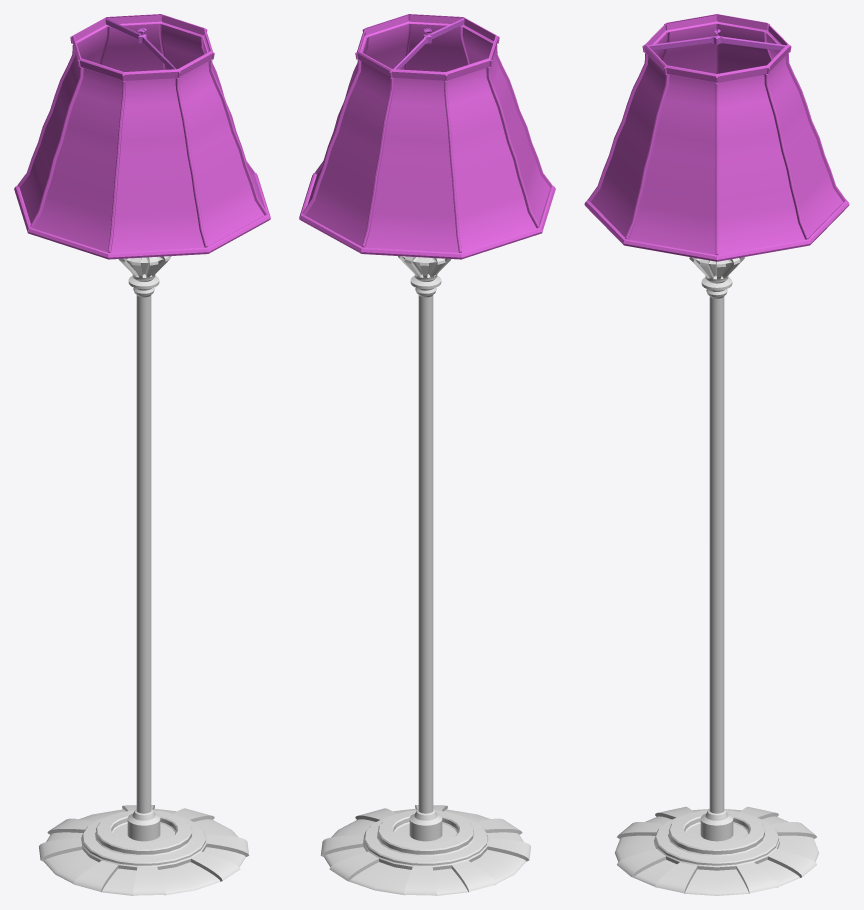
The model's file is lampara grande barbie.fbx.
3 views of the same model, side by side, from view 1: azimuth 30°, elevation 25°; view 2: azimuth 150°, elevation 25°; view 3: azimuth 270°, elevation 25° (orthographic).
Parts seen in each view (by area): view 1: polySurface1, polySurface2, polySurface3; view 2: polySurface1, polySurface2, polySurface3; view 3: polySurface1, polySurface2, polySurface3.
Boxes of the visible parts, <box> form: polySurface1: <box>14,14,270,259</box>; polySurface2: <box>39,256,249,895</box>; polySurface3: <box>105,18,176,69</box>; polySurface1: <box>299,14,555,259</box>; polySurface2: <box>320,256,530,895</box>; polySurface3: <box>393,18,464,69</box>; polySurface1: <box>584,14,849,261</box>; polySurface2: <box>615,257,818,895</box>; polySurface3: <box>648,29,785,50</box>.
Size of the model in its own units: 11.7 by 40.02 by 11.7.
